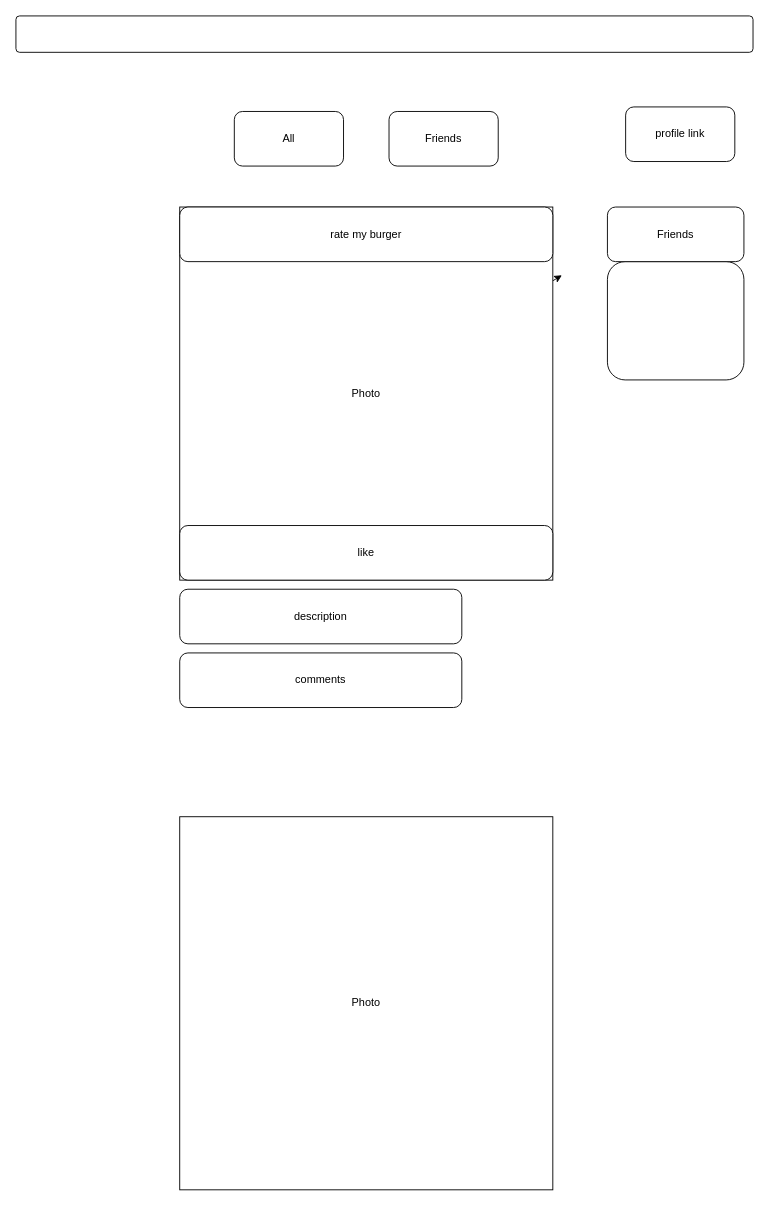
The diagram is 769 pixels wide and 1206 high, and some of its shapes have lost their labels. The shapes that lost their labels are listed below. From the top down, each one's centre as x and y in pixels, then its label:
At pixel 384 33: "NavBar".
At pixel 675 320: "Friends list".
